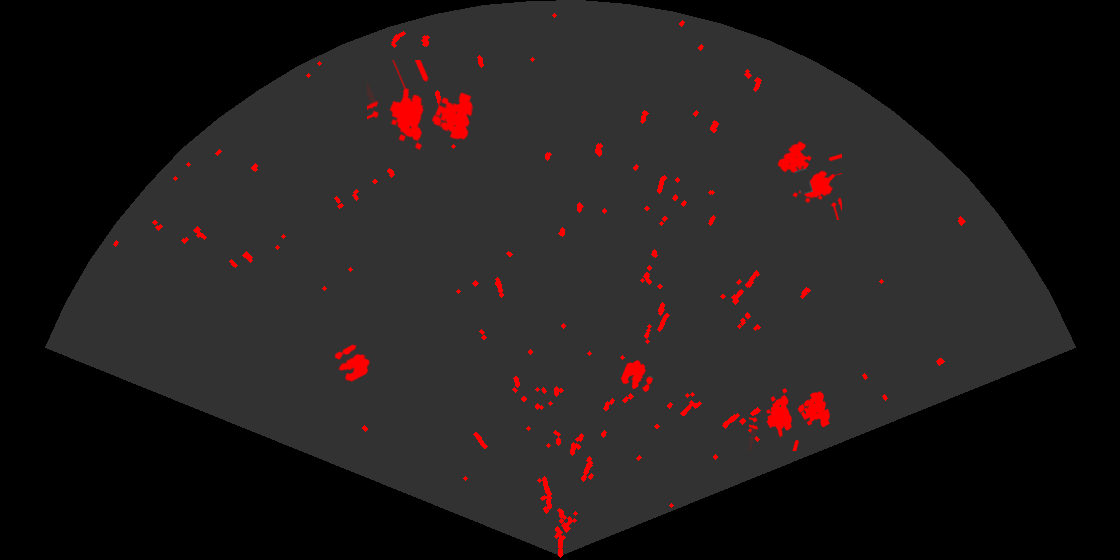ball: (333, 343, 371, 383), (619, 359, 654, 394)
cage: (367, 60, 475, 152), (776, 139, 842, 220), (749, 387, 832, 451)
